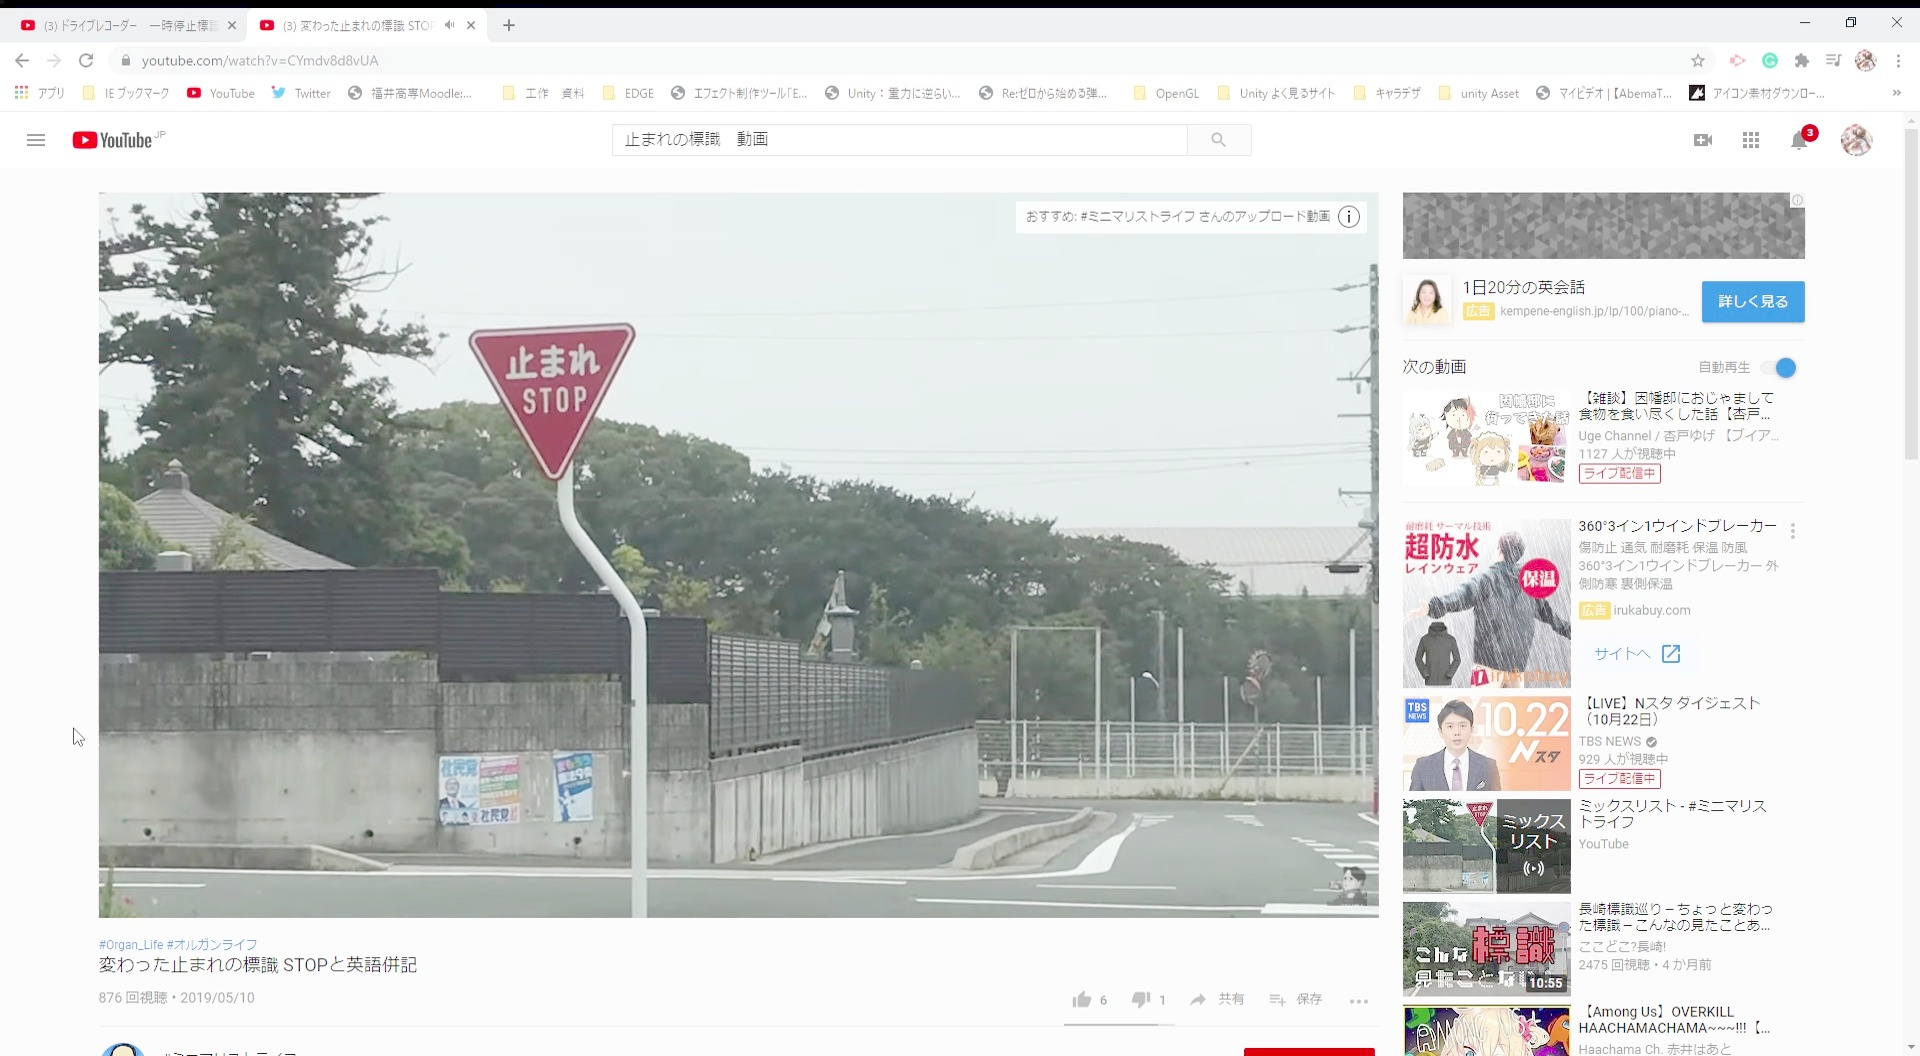Regulatory_sign_triangle: (464, 315, 658, 495)
